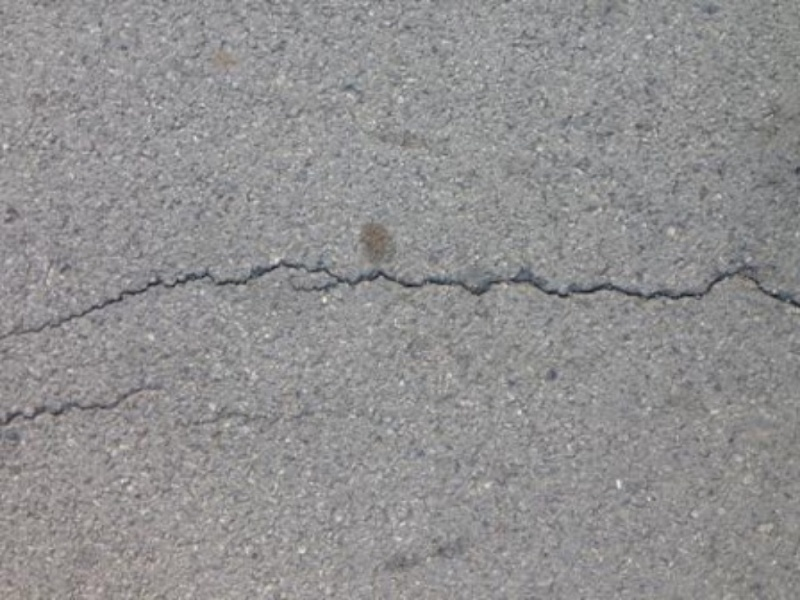crack: (12, 248, 794, 348), (12, 389, 185, 432)
